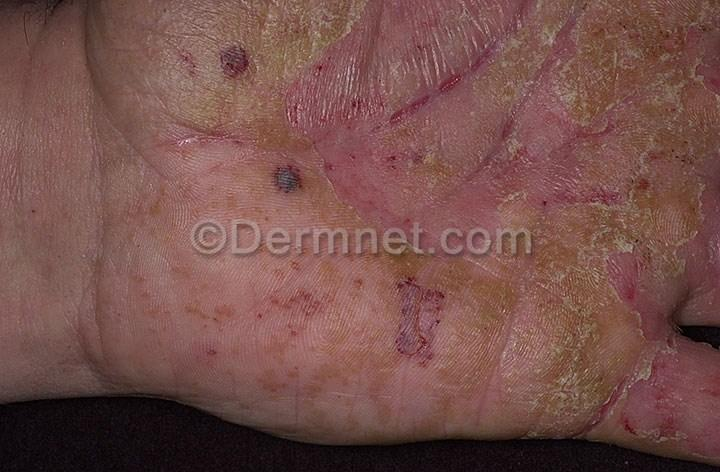Eczema: (397, 272, 440, 358), (556, 183, 627, 211), (215, 41, 256, 82), (271, 159, 305, 202), (281, 90, 308, 132), (175, 132, 240, 149), (492, 186, 531, 213), (174, 47, 205, 80), (245, 2, 277, 33), (287, 288, 322, 316), (574, 125, 619, 145), (465, 36, 509, 56), (630, 235, 656, 268), (402, 143, 427, 176), (609, 229, 636, 259), (281, 15, 312, 41), (615, 271, 641, 302), (553, 378, 579, 409), (509, 144, 534, 176), (431, 9, 470, 29), (430, 153, 451, 190), (350, 92, 383, 115), (531, 218, 555, 248), (503, 77, 523, 112), (652, 43, 681, 67), (686, 14, 713, 37), (313, 6, 338, 30), (411, 40, 437, 63), (638, 147, 671, 165), (539, 22, 557, 52), (462, 57, 494, 73), (511, 11, 529, 39), (660, 99, 685, 119), (666, 328, 681, 360), (619, 414, 639, 438), (658, 25, 686, 42), (503, 115, 521, 141), (658, 414, 680, 435), (580, 322, 601, 344), (632, 175, 655, 195), (577, 246, 599, 266), (654, 389, 673, 412), (403, 100, 436, 113), (310, 57, 329, 79), (387, 113, 416, 127), (438, 75, 469, 88), (386, 149, 400, 177), (708, 376, 720, 406), (696, 180, 709, 205), (615, 17, 634, 34), (589, 25, 608, 41), (680, 154, 697, 171), (573, 1, 596, 13), (29, 202, 45, 219), (287, 260, 304, 276), (650, 362, 671, 374), (323, 161, 338, 177), (709, 73, 720, 93), (204, 348, 220, 360), (539, 196, 550, 208)
